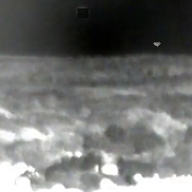Target: (153, 42, 161, 46)
